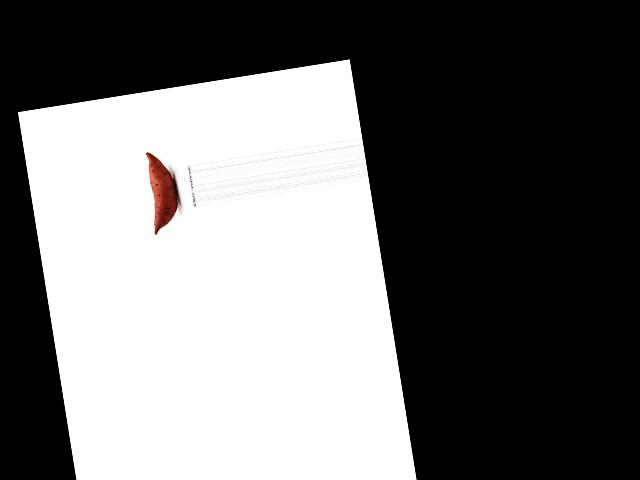sweet_potato: (137, 147, 183, 236)
